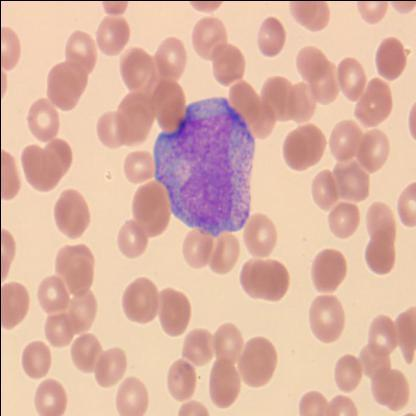Promyelocyte: (154, 96, 257, 238)
